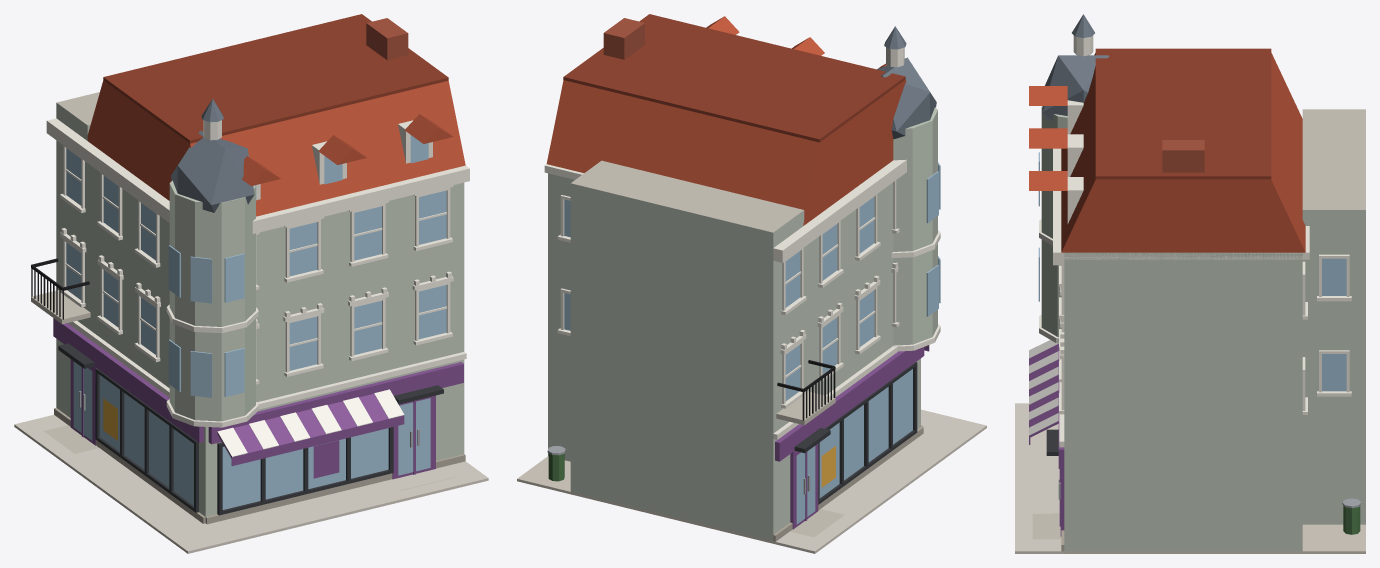
File: Blok_kose_3k_4_Hafif.fbx
3 views of the same model, side by side, from view 1: azimuth 30°, elevation 25°; view 2: azimuth 150°, elevation 25°; view 3: azimuth 270°, elevation 25° (orthographic).
Parts seen in each view (by area): view 1: Blok_kose_3k_4_Hafif; view 2: Blok_kose_3k_4_Hafif; view 3: Blok_kose_3k_4_Hafif.
Boxes of the visible parts, left/top/right/bottom form: Blok_kose_3k_4_Hafif: left=14, top=14, right=488, bottom=553; Blok_kose_3k_4_Hafif: left=517, top=14, right=986, bottom=553; Blok_kose_3k_4_Hafif: left=1015, top=14, right=1365, bottom=553.
Size of the model in its own units: 10 by 13.27 by 10.
